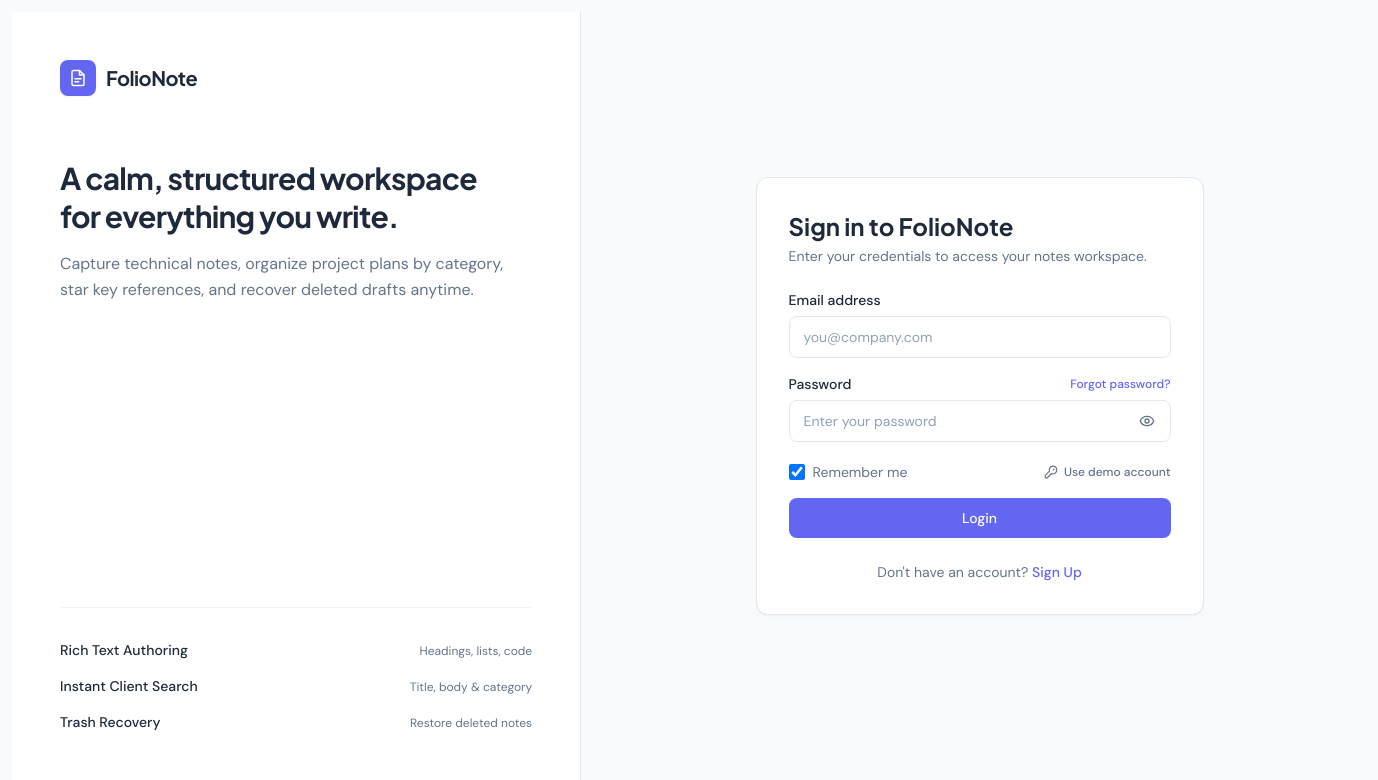
Authentication Screens › logs in successfully with valid demo credentials
Type "alex.morgan@folionote.app" into the field labelled "Email address". click: (980, 337)
box: [789,316,1171,358]
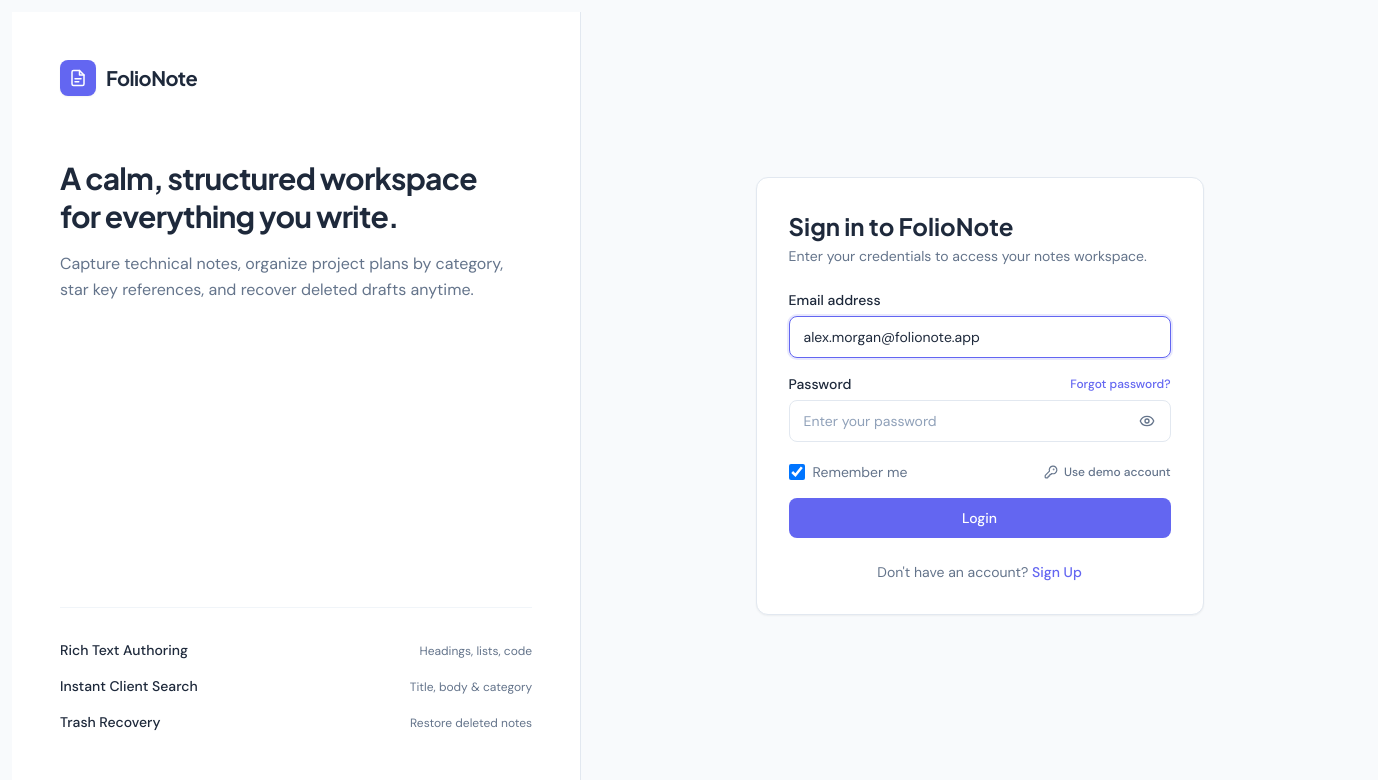
Type "Password123!" into the password field labelled "Password". click: (980, 421)
box: [789,400,1171,442]
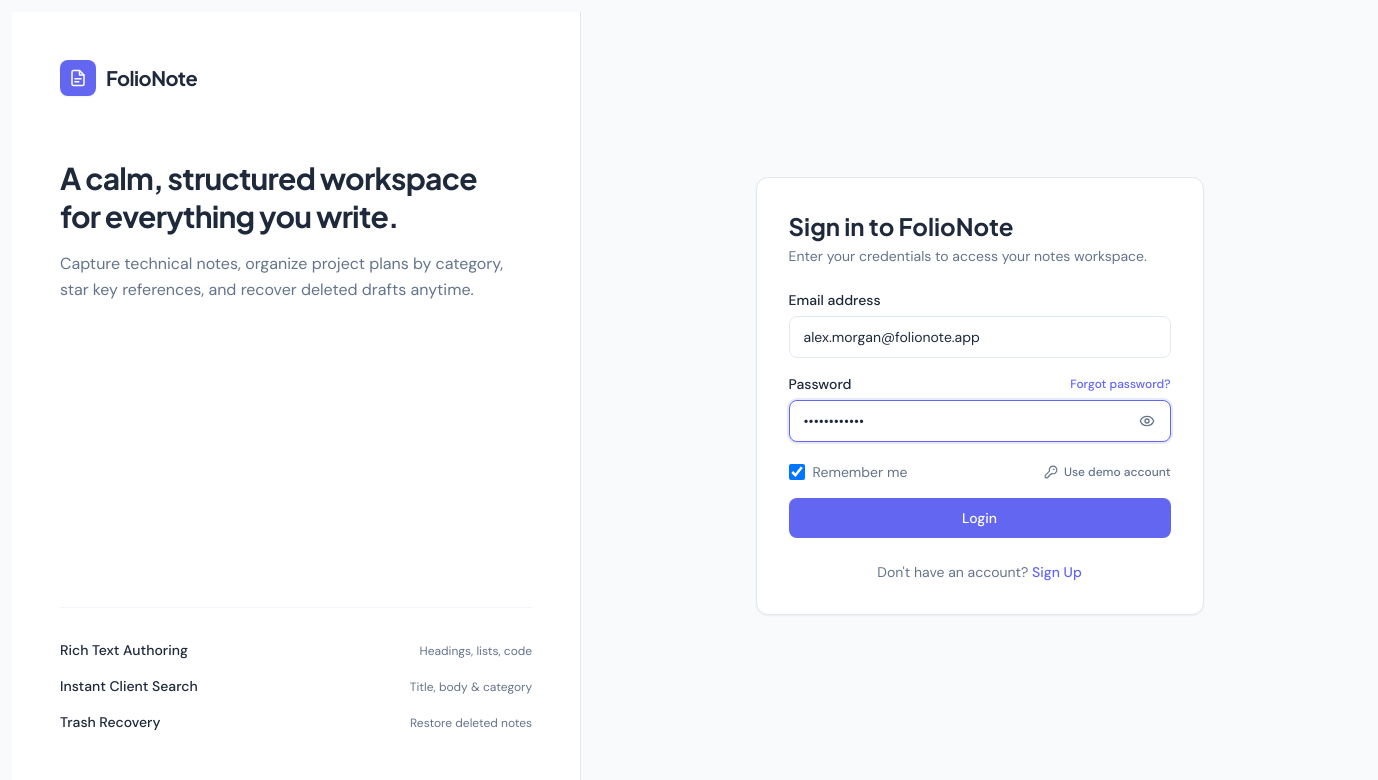
Click the button "Login". click: click(980, 518)
box: [789,498,1171,538]
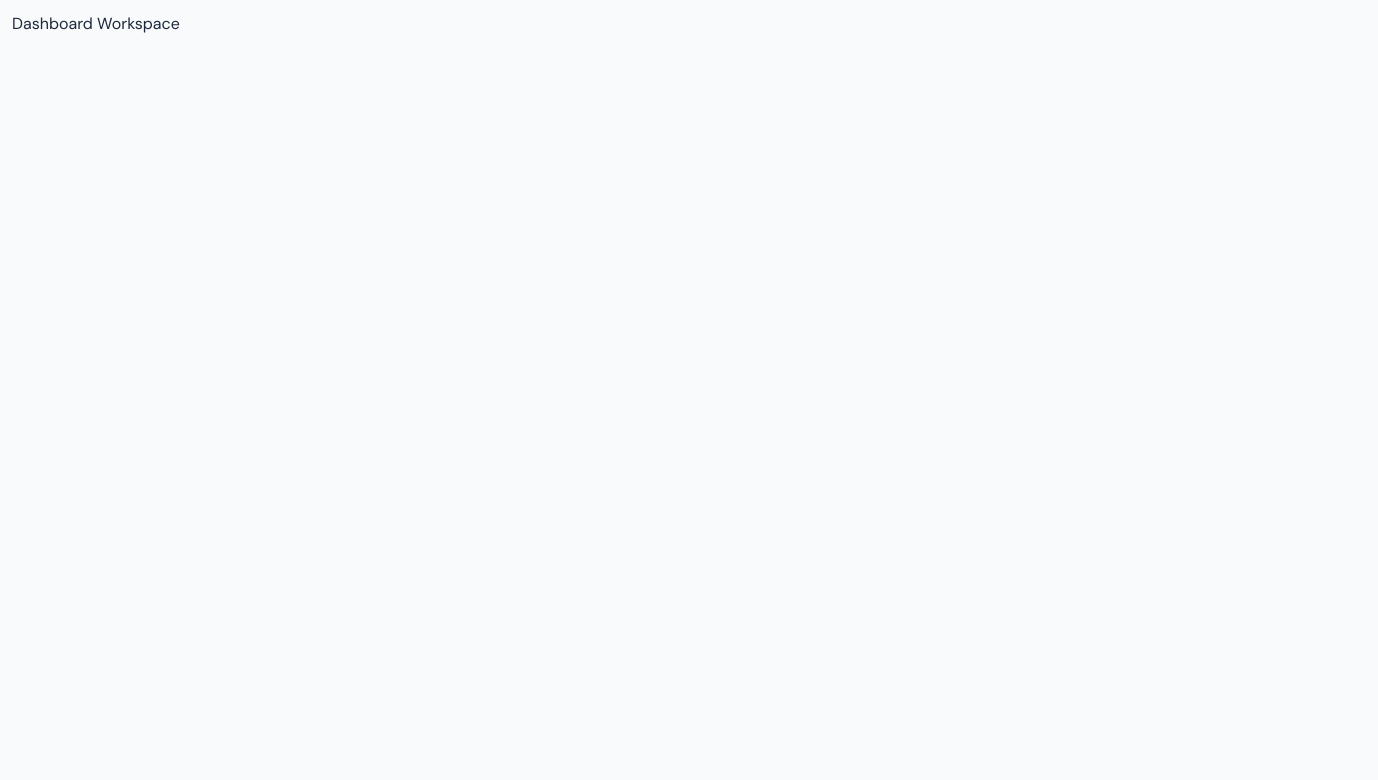
Now the text "Dashboard Workspace" is shown, box [12,13,180,34]
